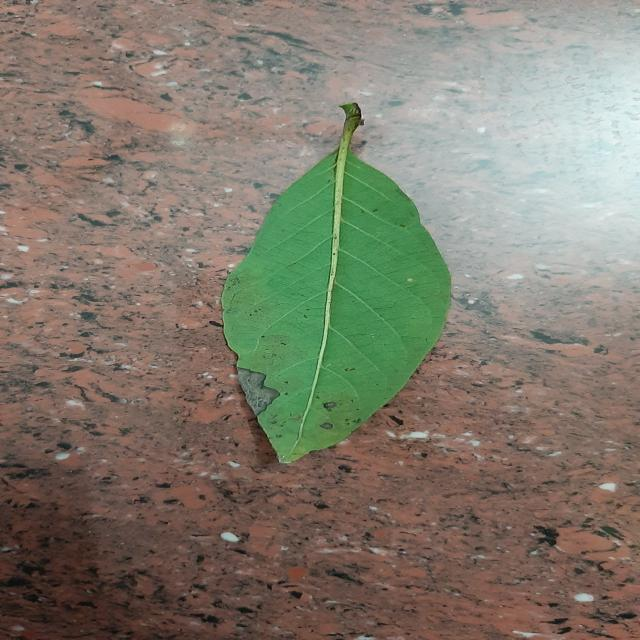seethaphala: (222, 104, 450, 462)
